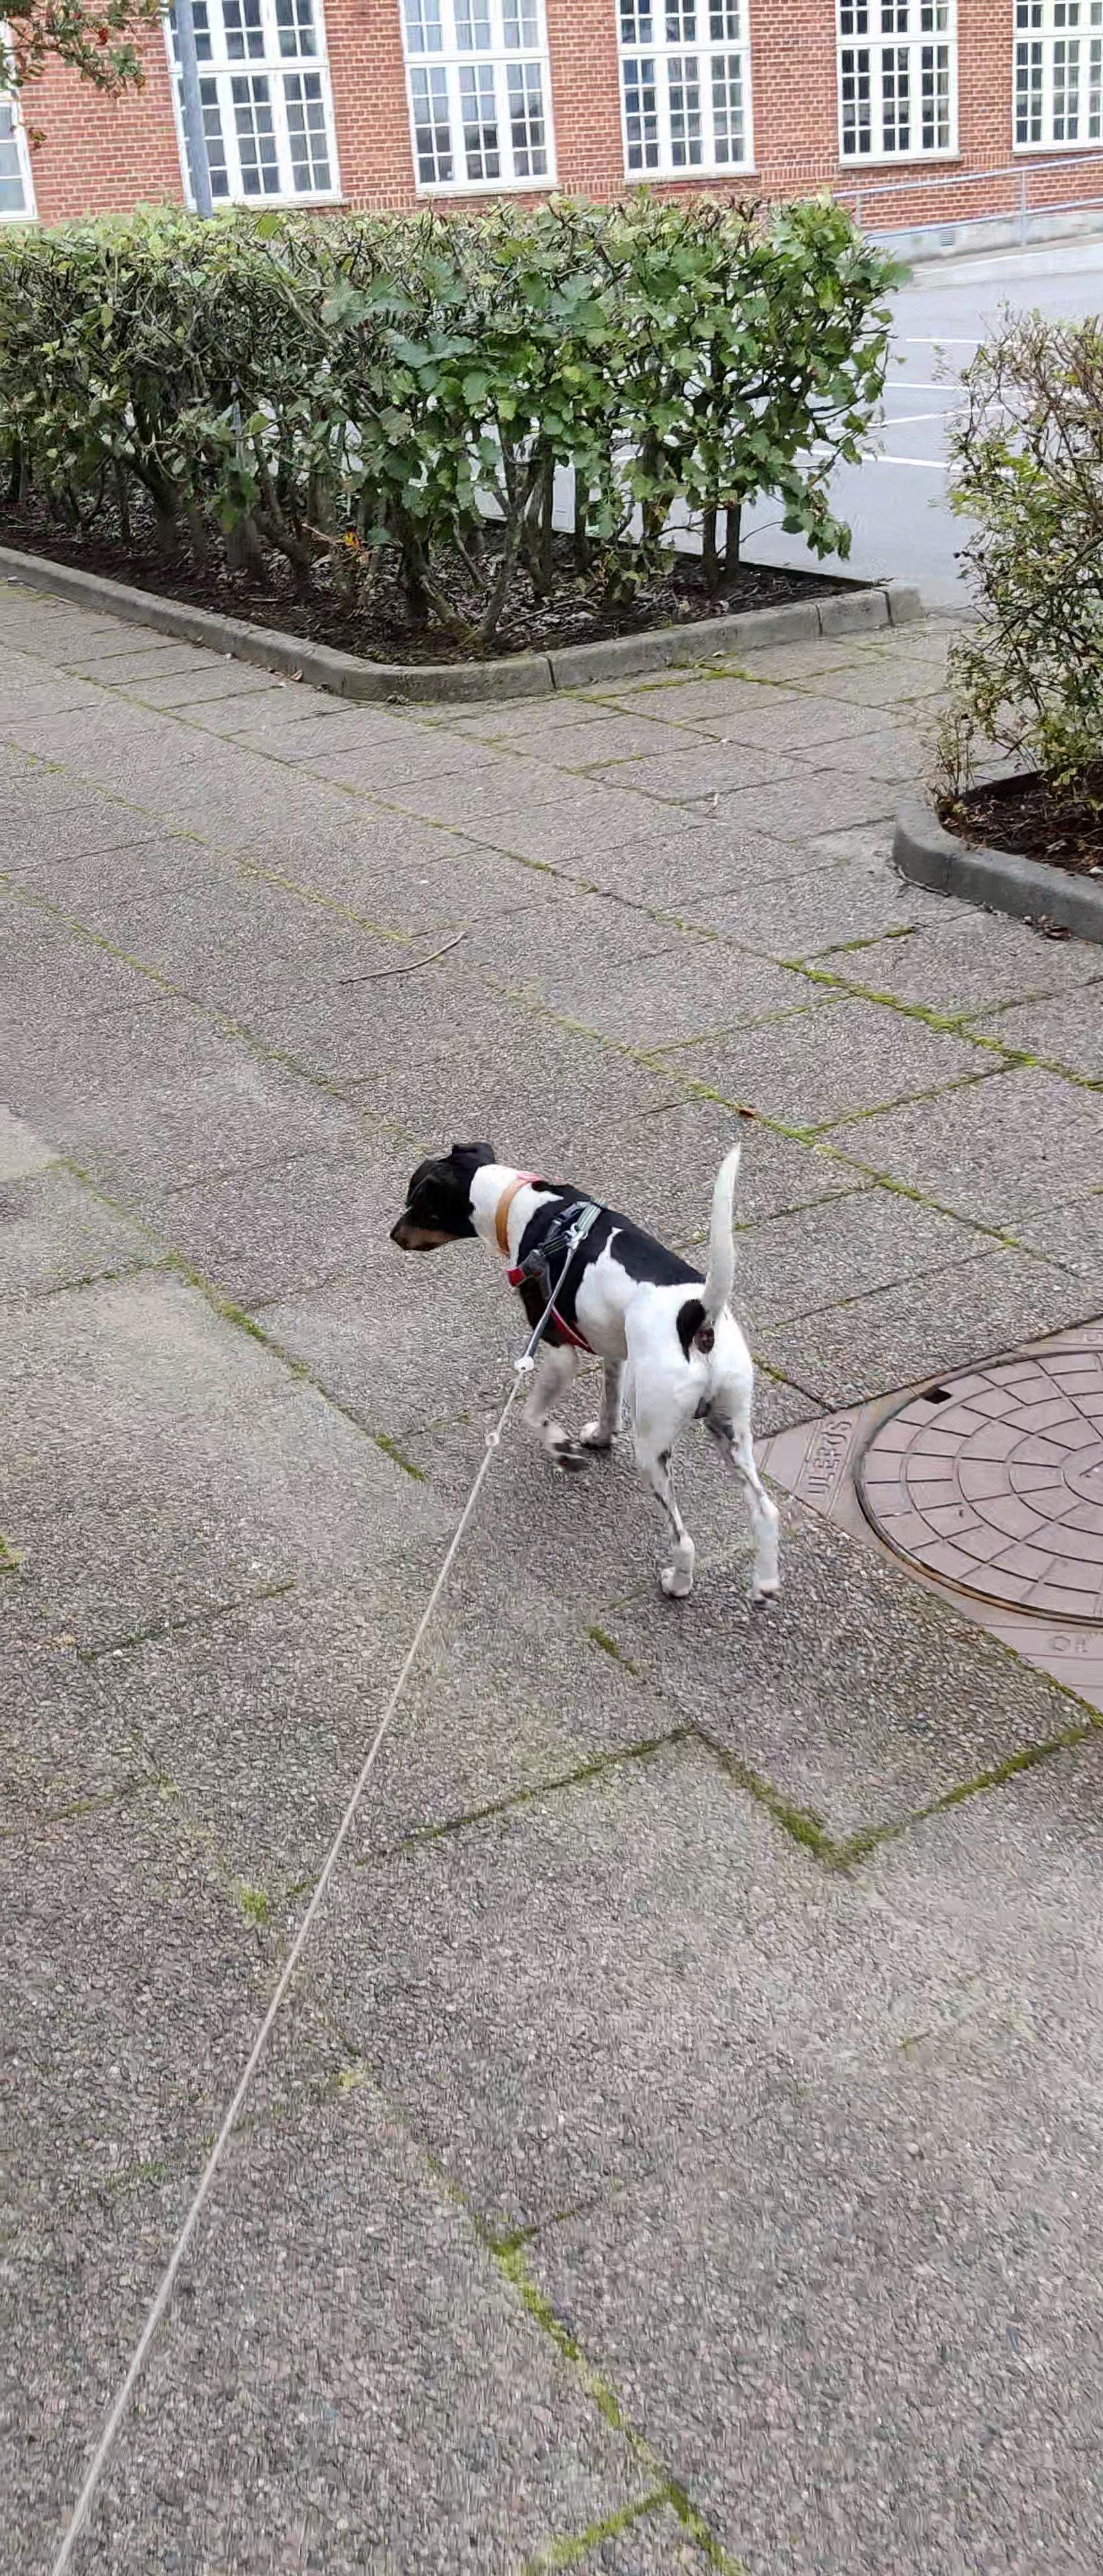Dog: (388, 1132, 786, 1613)
